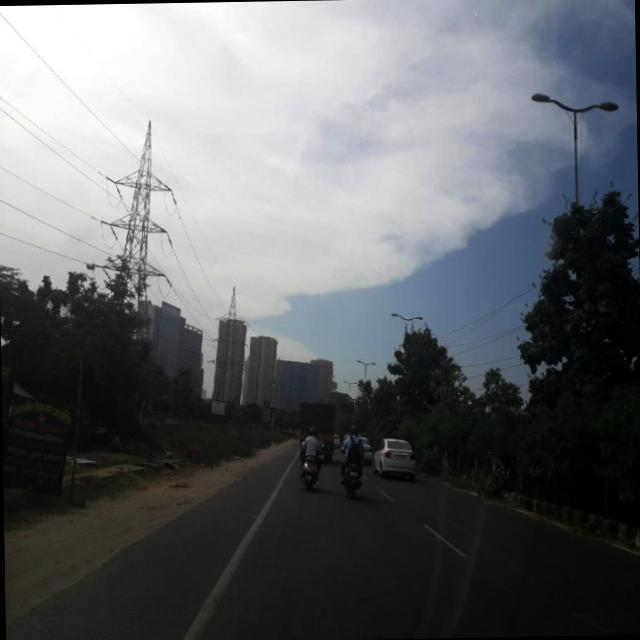crack: (217, 502, 456, 629)
